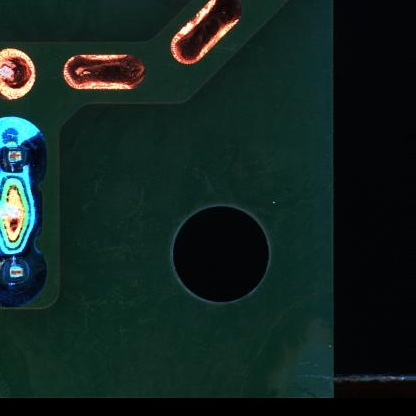spot: (1, 114, 49, 185), (1, 248, 50, 307)
